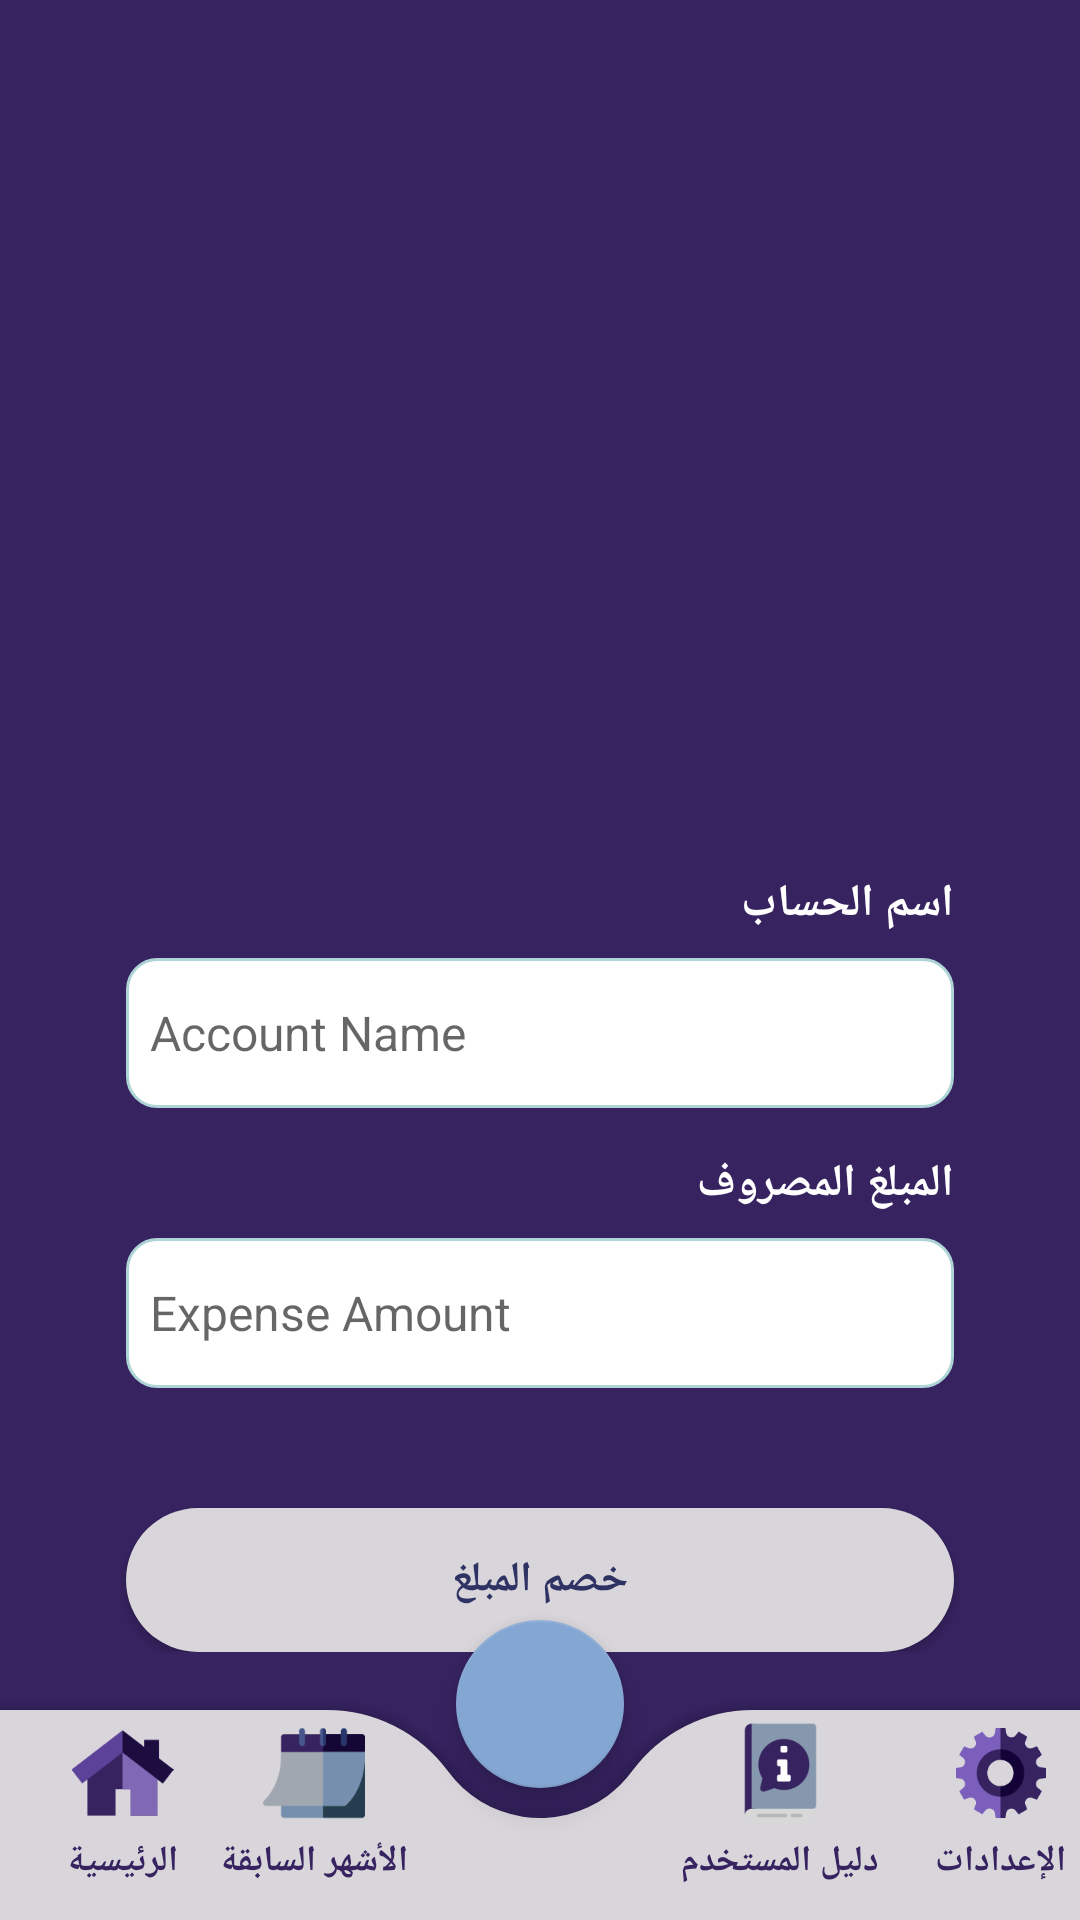

Where icons sit on this 1080 × 1920 app screen, as (x1, y1, x2, y2):
calendar masroofe: (263, 1728, 365, 1819)
